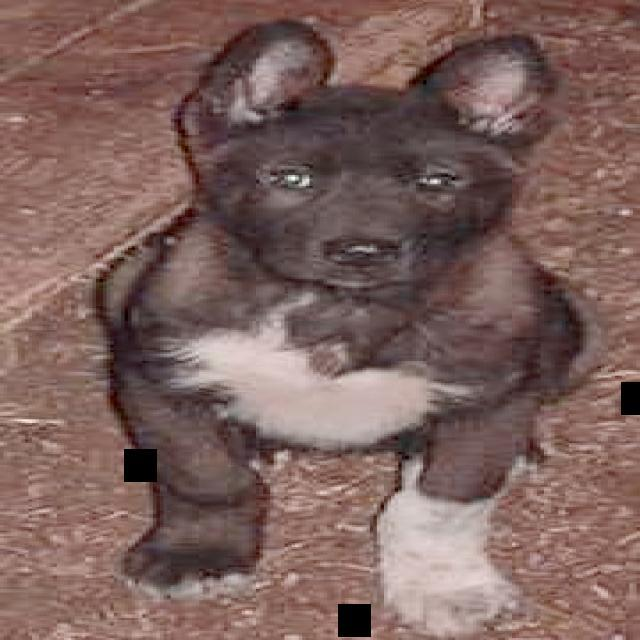puppy-dog: (75, 19, 592, 631)
